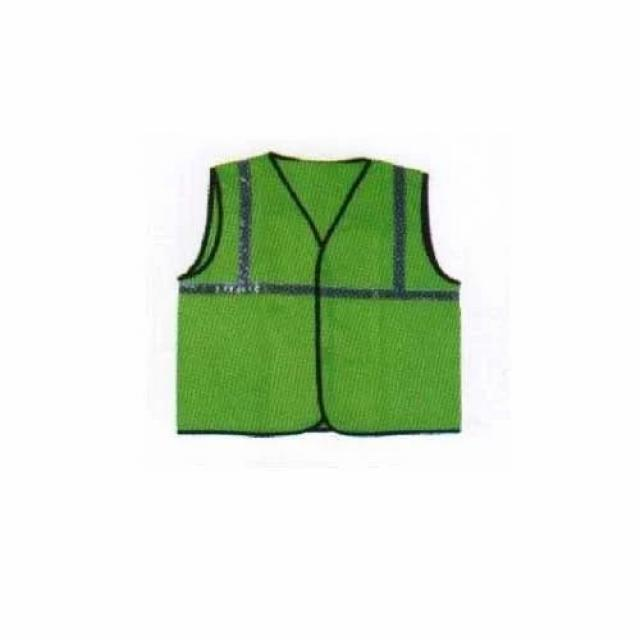Reflective-Jacket: (118, 141, 507, 448)
